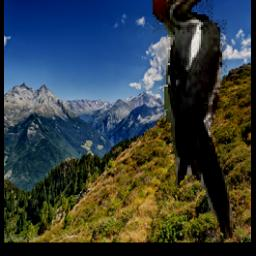Woodpecker: (154, 0, 234, 241)
